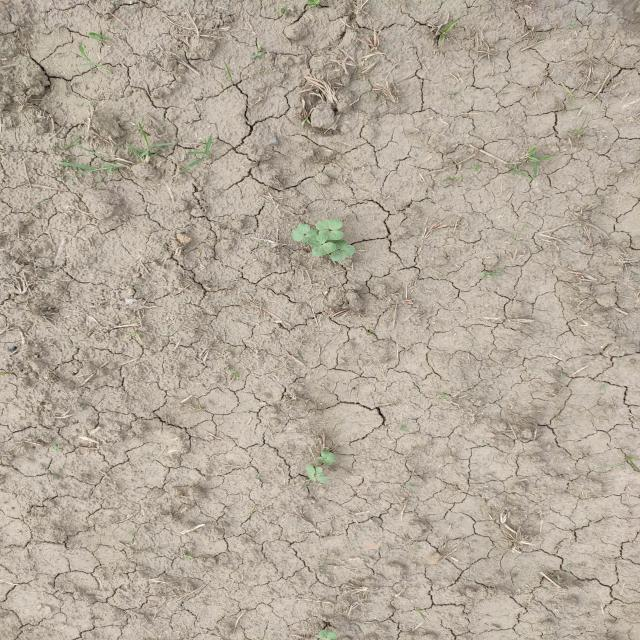seedling: (330, 245, 355, 262), (311, 242, 337, 256), (316, 219, 343, 231), (291, 224, 310, 241), (314, 466, 330, 484), (307, 233, 328, 246), (318, 230, 343, 240), (302, 229, 318, 244), (321, 450, 337, 462), (306, 464, 316, 482), (319, 630, 337, 640), (334, 240, 347, 251), (317, 457, 332, 466), (315, 635, 331, 640)
